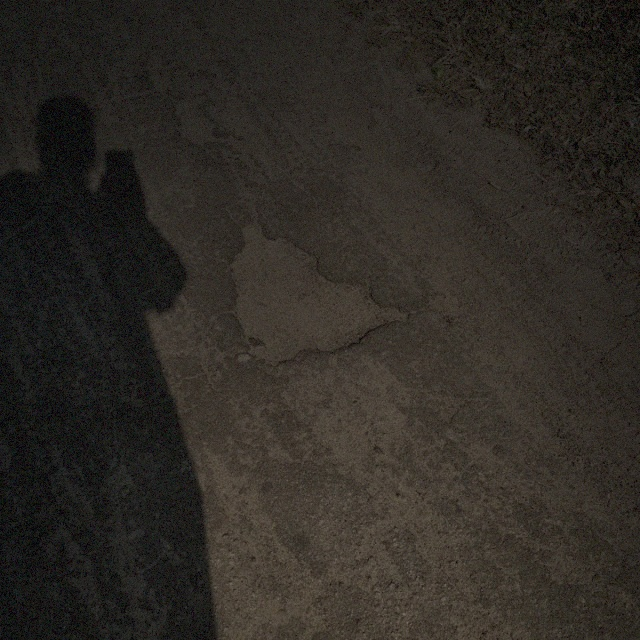pothole: (220, 215, 412, 366), (170, 94, 226, 146)
